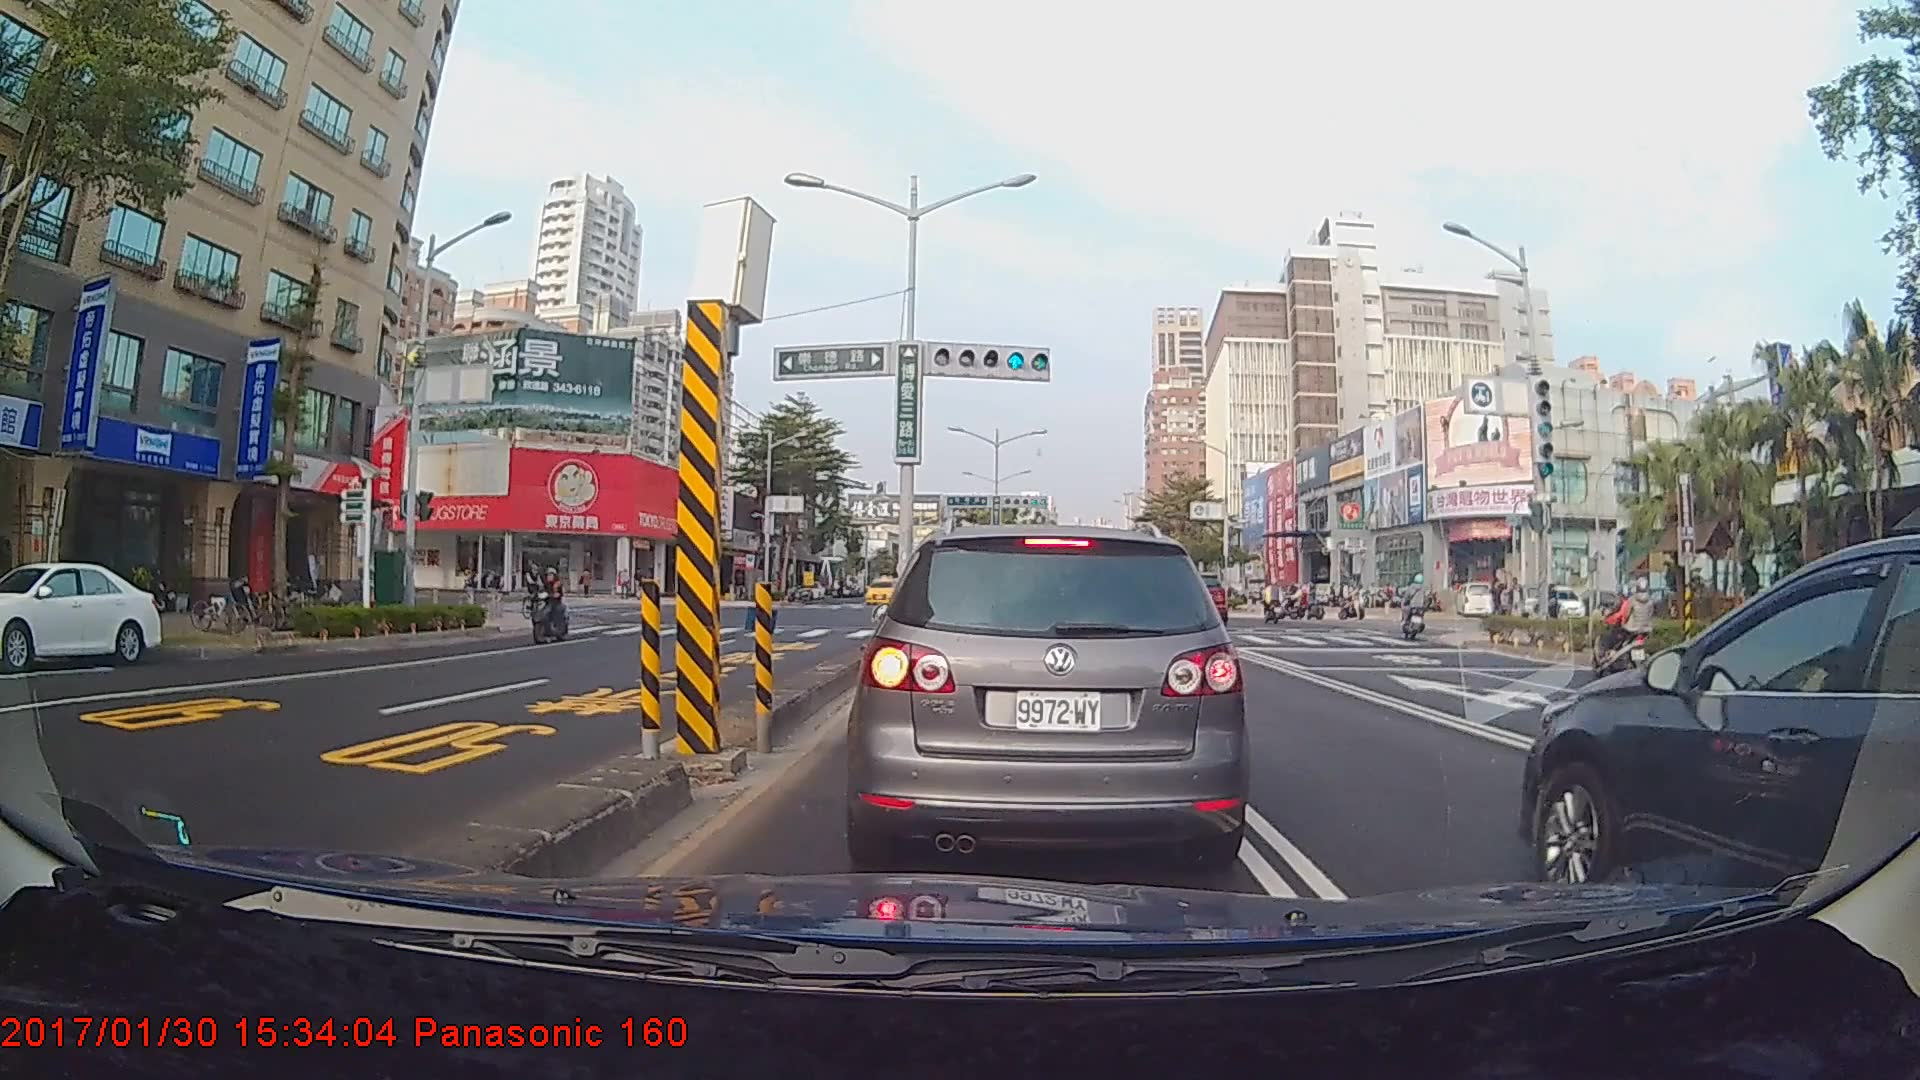rider: (530, 565, 579, 648), (1398, 572, 1439, 642), (1252, 574, 1282, 630)
vehicle: (1518, 534, 1920, 890), (857, 519, 1242, 869), (0, 561, 162, 671), (1144, 572, 1229, 632)
